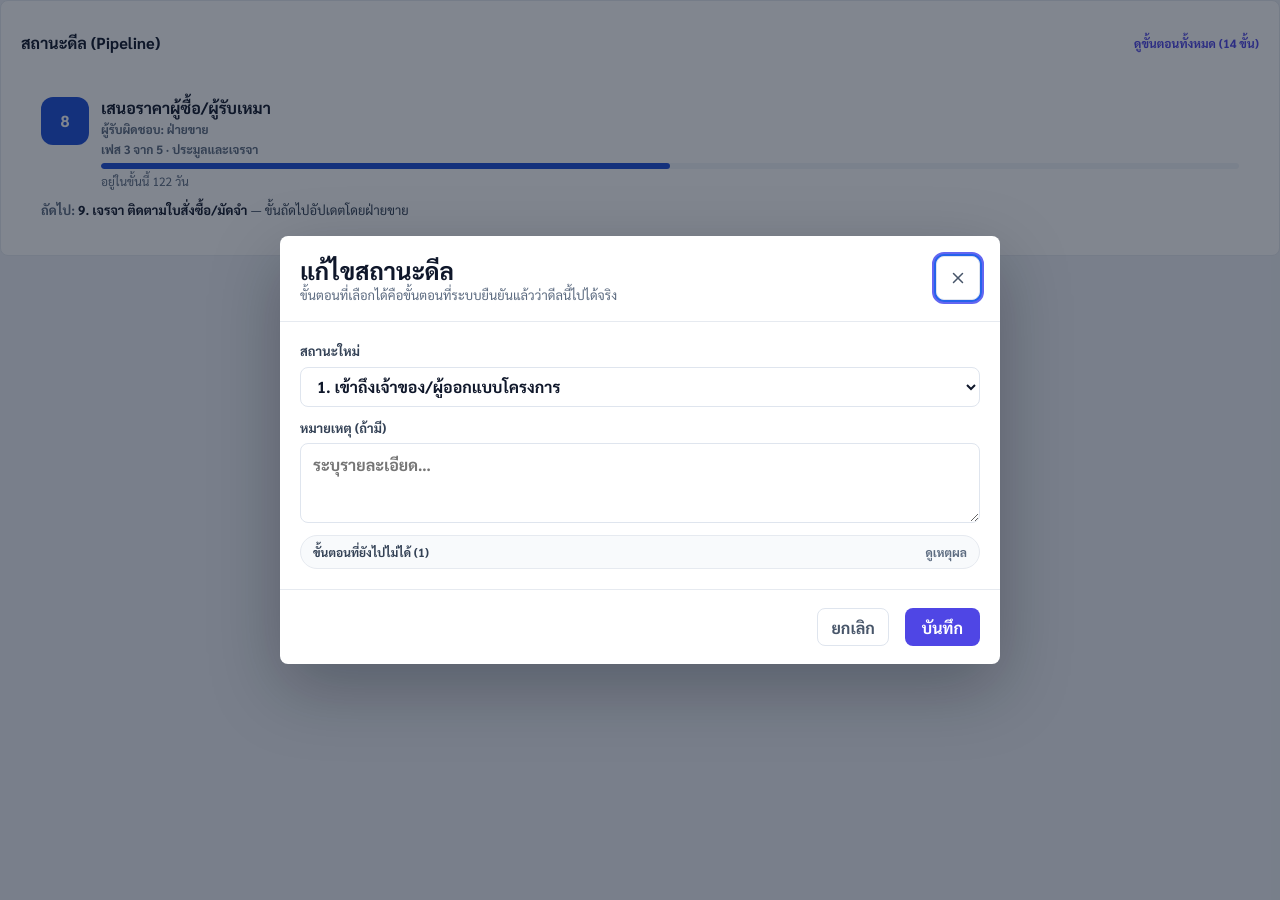
Scenario: DealStagePanel imperative handle (overflow menu / danger zone triggers) › openEditStage() keeps an off-route stage in the blocked list with its reason, even though the deal never sat on it
Click the button with test id "update-stage-blocked-toggle" at (366, 552), box [301,536,979,568]
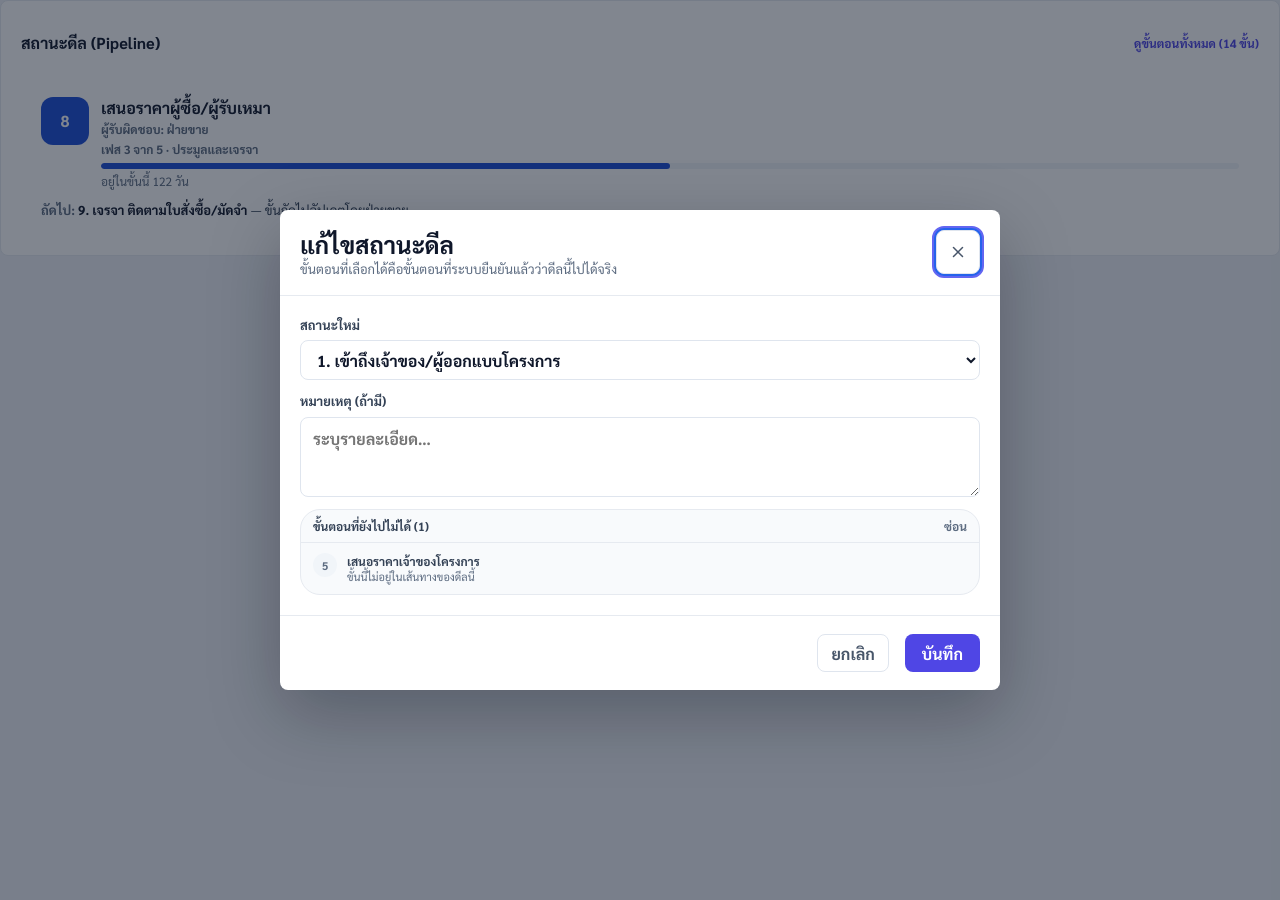
Check: the list with test id "update-stage-blocked-list" shows "ขั้นนี้ไม่อยู่ในเส้นทางของดีลนี้", box [347,569,475,584]
